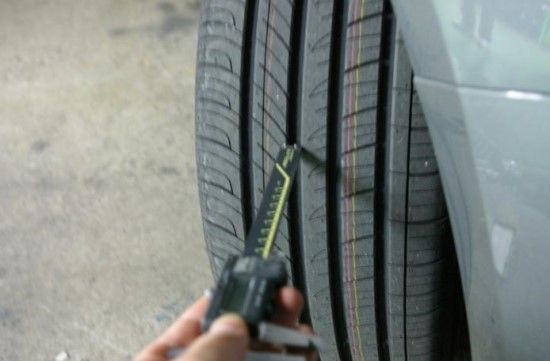new_condition: (198, 2, 444, 361)
